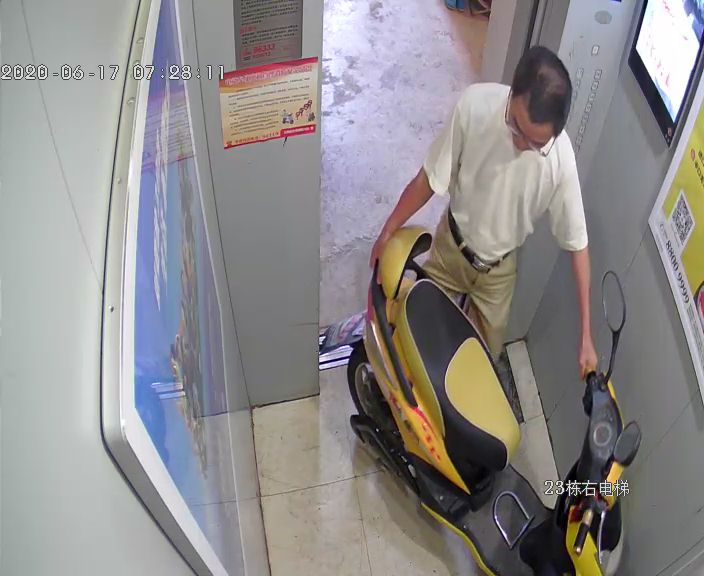Electric-bicycle: (344, 225, 641, 575)
